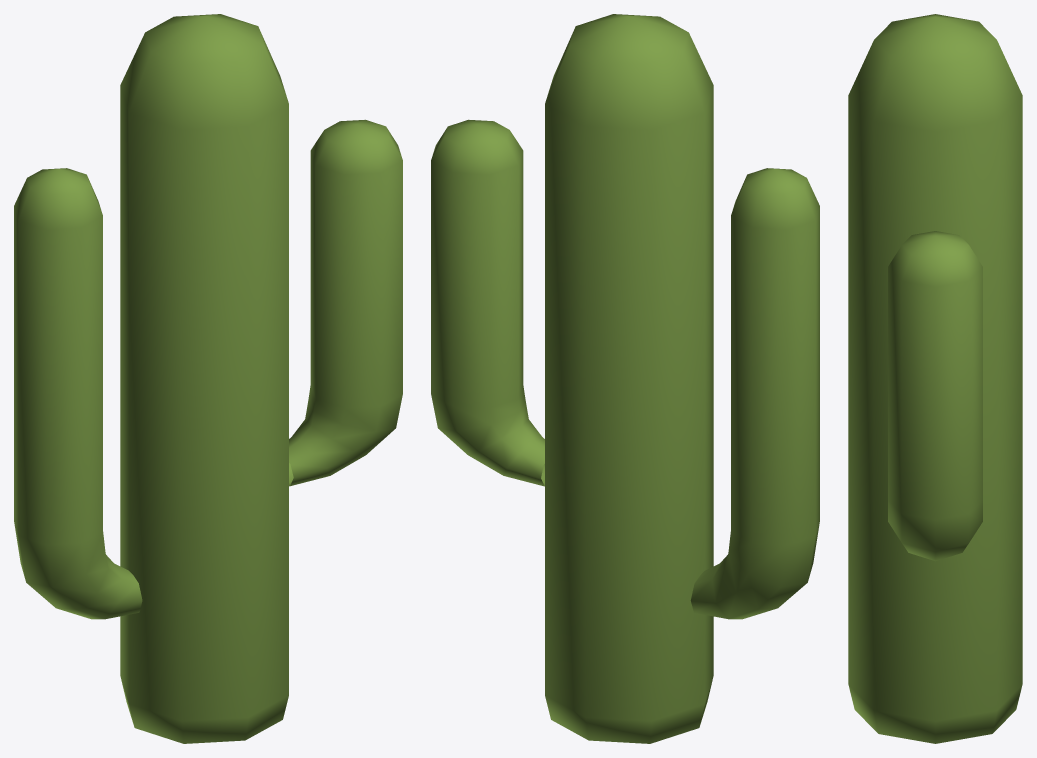
File: cactus.glb
The picture shows the model from 3 angles, left to right: view 1: azimuth 30°, elevation 25°; view 2: azimuth 150°, elevation 25°; view 3: azimuth 270°, elevation 25°; orthographic projection.
Visible parts, largest first — view 1: Cactus1; view 2: Cactus1; view 3: Cactus1.
Boxes of the visible parts, box(x1,y1,x2,y2) form: Cactus1: box(14, 14, 402, 743); Cactus1: box(431, 14, 819, 743); Cactus1: box(848, 14, 1022, 743).
Bounding box in the file's own units: 6.79 × 11.88 × 2.71.
